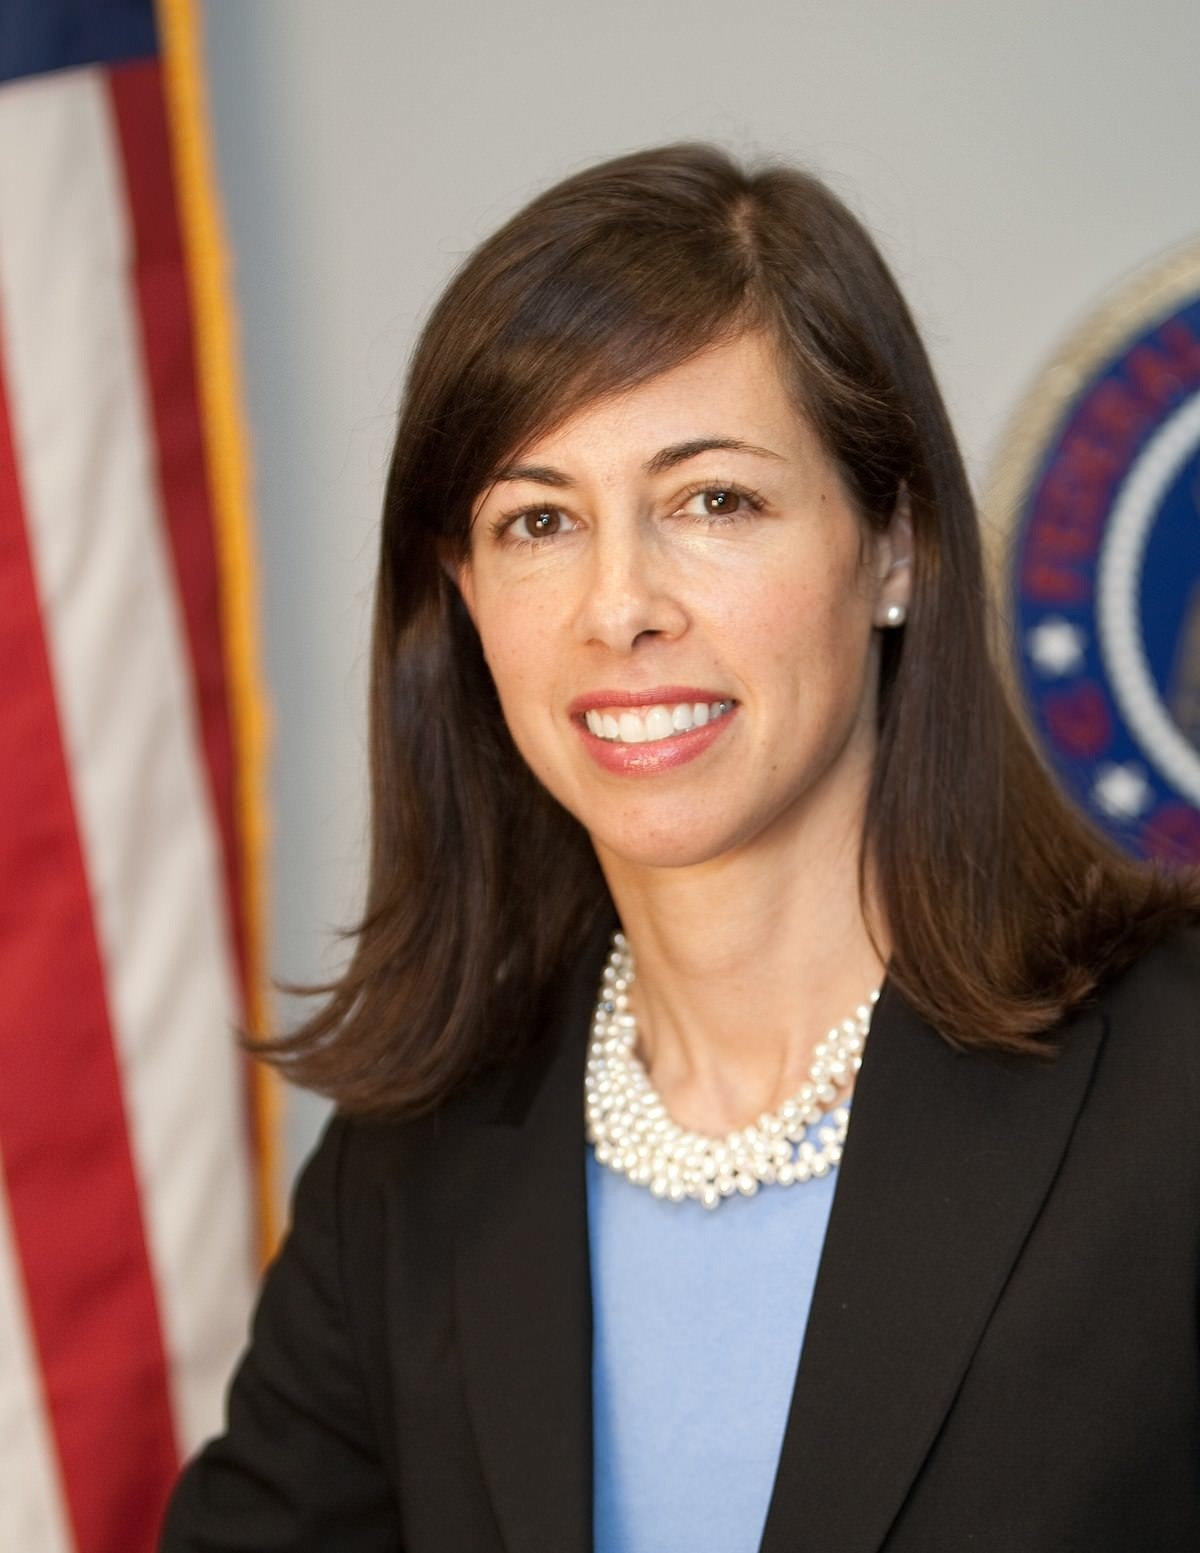face_no_mask: (383, 145, 986, 870)
